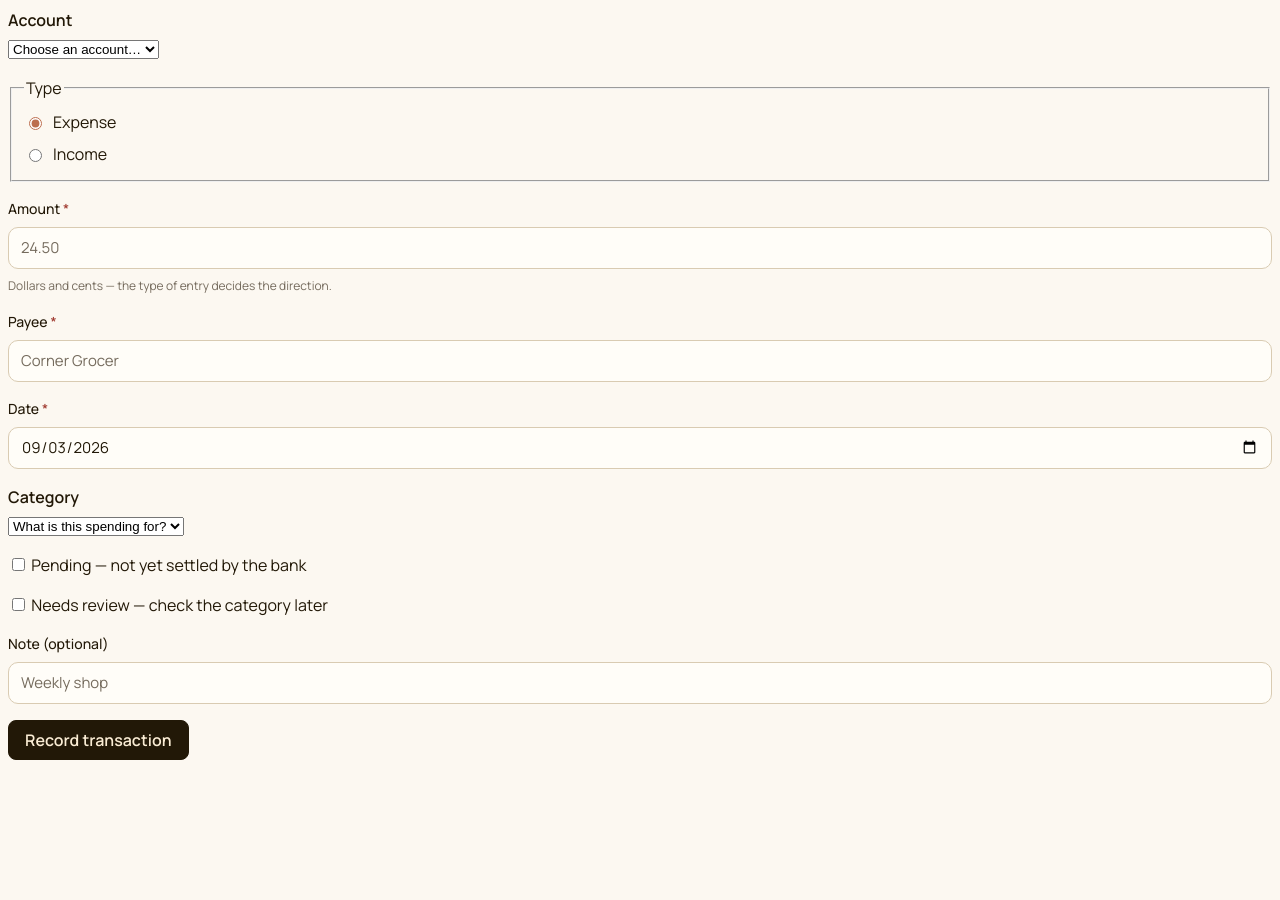
it: TransactionEntryForm › hides the category select for income entries
The width and height of the screenshot is (1280, 900).
expect the dropdown labelled "Category" is shown: met, box [8,517,184,536]
Step 1. Click the radio button labelled "Income" → (36, 155), box [29,149,42,162]
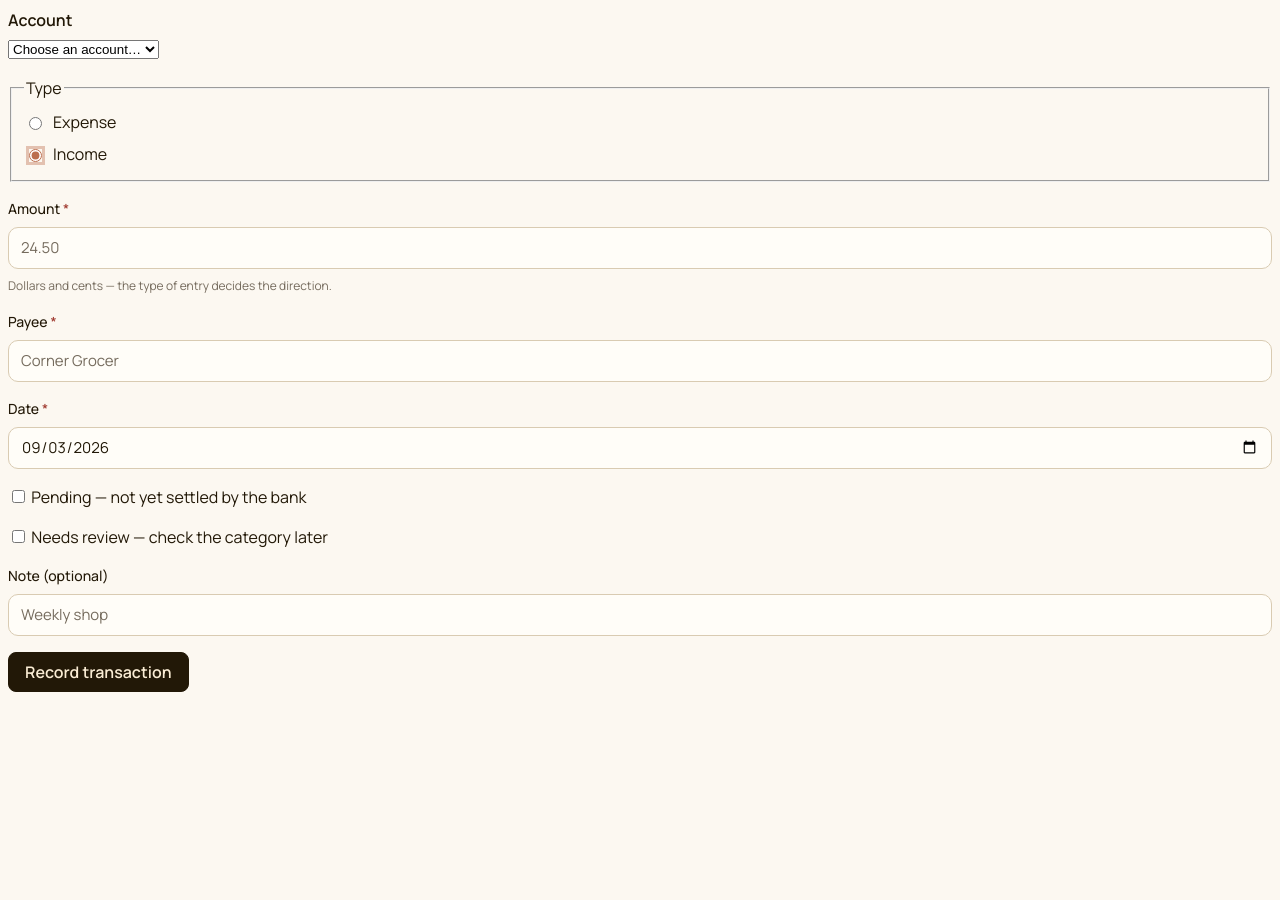
Step 2. Click the radio button labelled "Expense" → (36, 123), box [29,117,42,130]
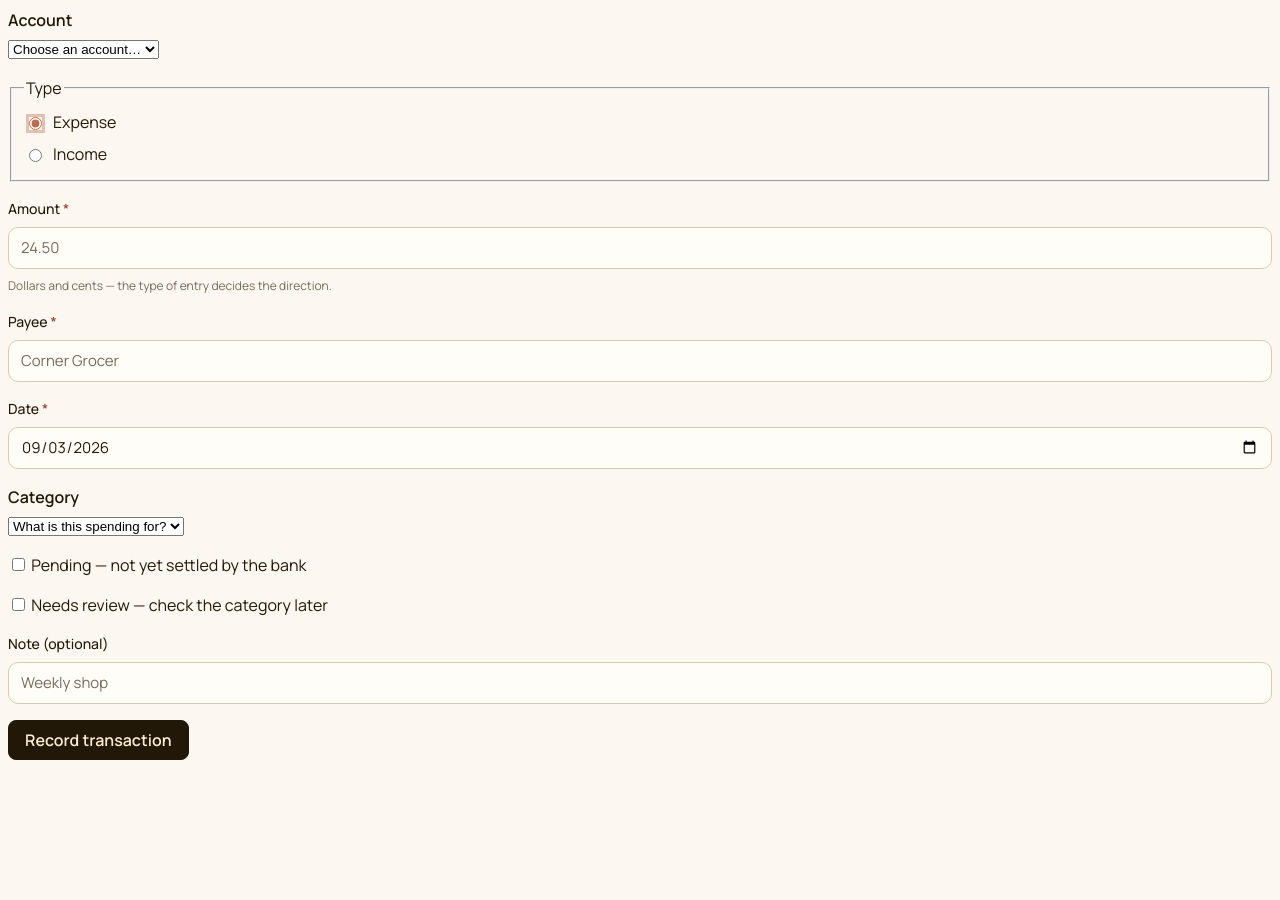
expect the dropdown labelled "Category" is shown: met, box [8,517,184,536]
